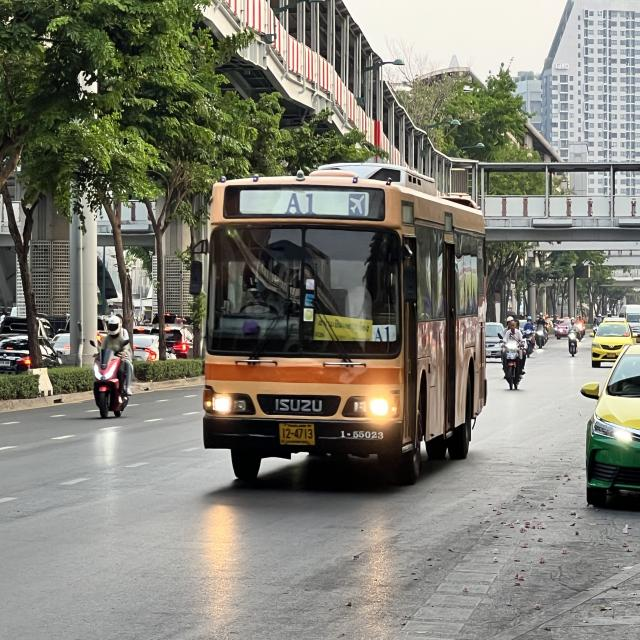BMTA-bus: (185, 153, 490, 491)
Bus-Line-Number: (276, 188, 324, 216)
Destination-Sign-Normal-Expressway: (315, 312, 371, 343)
